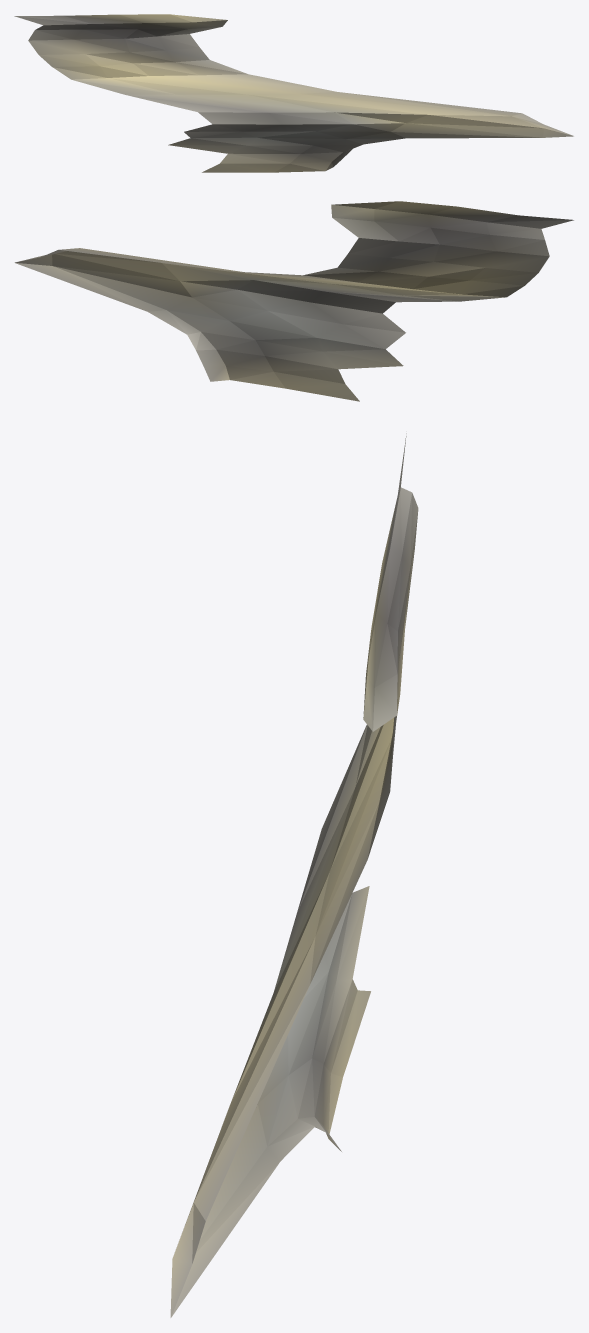
File: entity-floor-marking-30.glb
3 views of the same model, one above another, from view 1: azimuth 30°, elevation 25°; view 2: azimuth 150°, elevation 25°; view 3: azimuth 270°, elevation 25° (orthographic). The views are drawn at different scales.
Parts seen in each view (by area): view 1: geometry_0; view 2: geometry_0; view 3: geometry_0.
Boxes of the visible parts, x1,y1,x2,y2 form: geometry_0: (14,14,573,172); geometry_0: (14,201,573,401); geometry_0: (170,433,418,1317).
Size of the model in its own units: 0.801 by 0.3256 by 0.1714.
